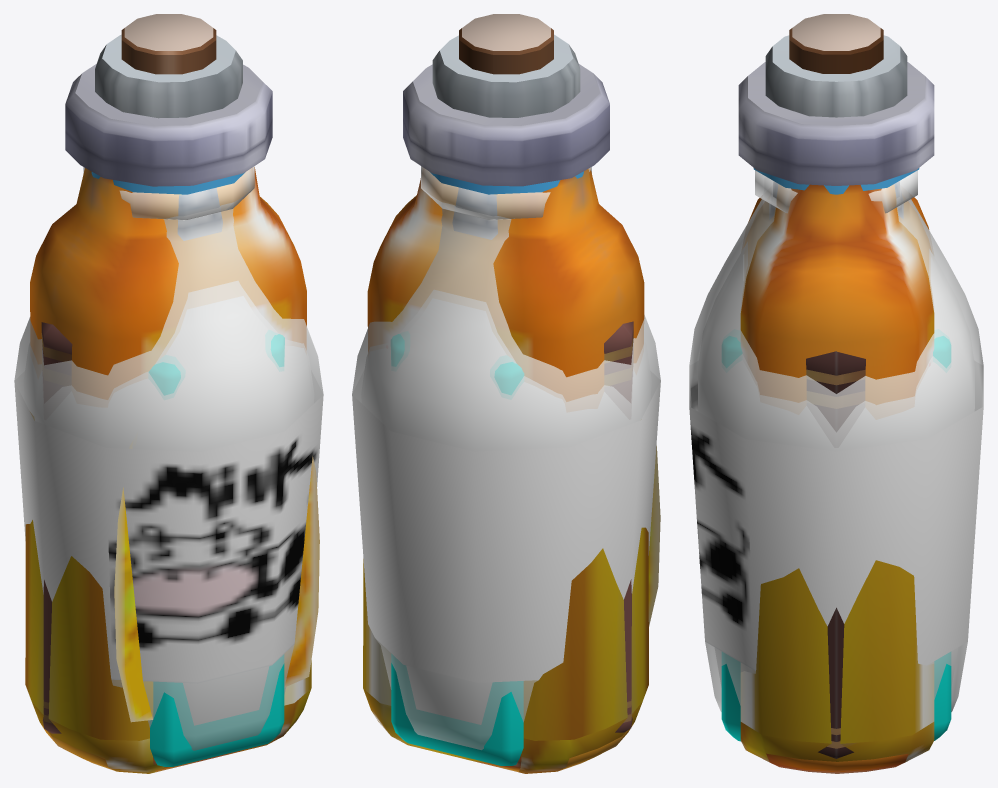
File: battle.FBX
3 views of the same model, side by side, from view 1: azimuth 30°, elevation 25°; view 2: azimuth 150°, elevation 25°; view 3: azimuth 270°, elevation 25° (orthographic).
Visible parts, largest first — view 1: mike, lb_05, fb_06, jjiu, lj, mt, lm; view 2: mike, lb_05, fb_06, jjiu, lj, mt, lm; view 3: mike, lb_05, fb_06, jjiu, lj, mt.
Part boxes in pixels (x1,y1,x2,y2): mike: (14,166,323,750); lb_05: (30,64,306,772); fb_06: (25,412,319,773); jjiu: (121,14,284,766); lj: (95,34,242,118); mt: (41,194,180,733); lm: (178,188,222,240); mike: (352,166,660,750); lb_05: (367,64,644,772); fb_06: (363,445,660,773); jjiu: (391,14,553,765); lj: (432,34,580,117); mt: (494,194,633,732); lm: (452,188,497,239); mike: (689,168,983,711); lb_05: (738,62,934,773); fb_06: (740,560,934,762); jjiu: (721,14,951,741); lj: (765,35,907,117); mt: (806,351,865,758).
Size of the model in its own units: 145 by 359 by 138.
